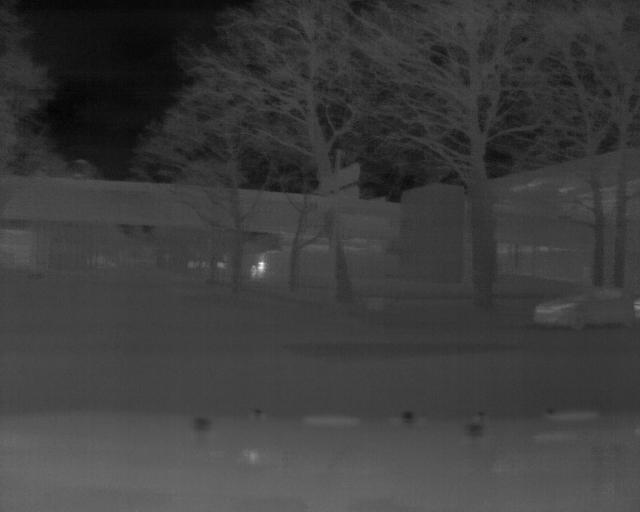car: (527, 285, 639, 331)
